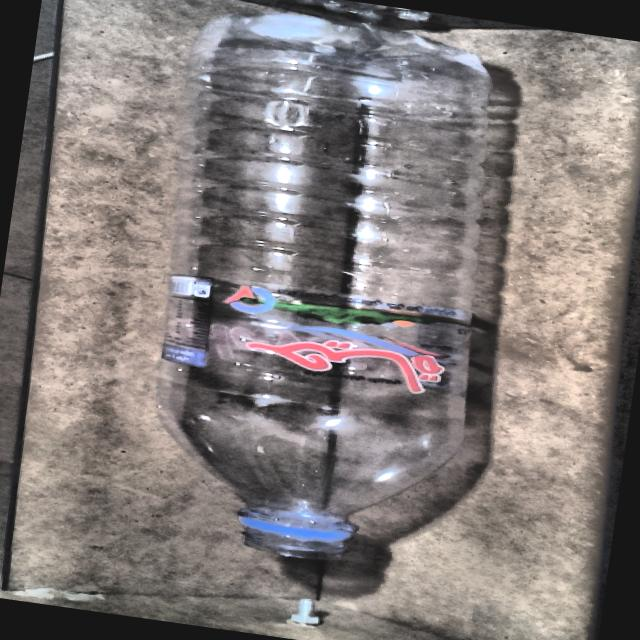plastic bottle: (159, 13, 492, 559), (160, 12, 492, 559)
